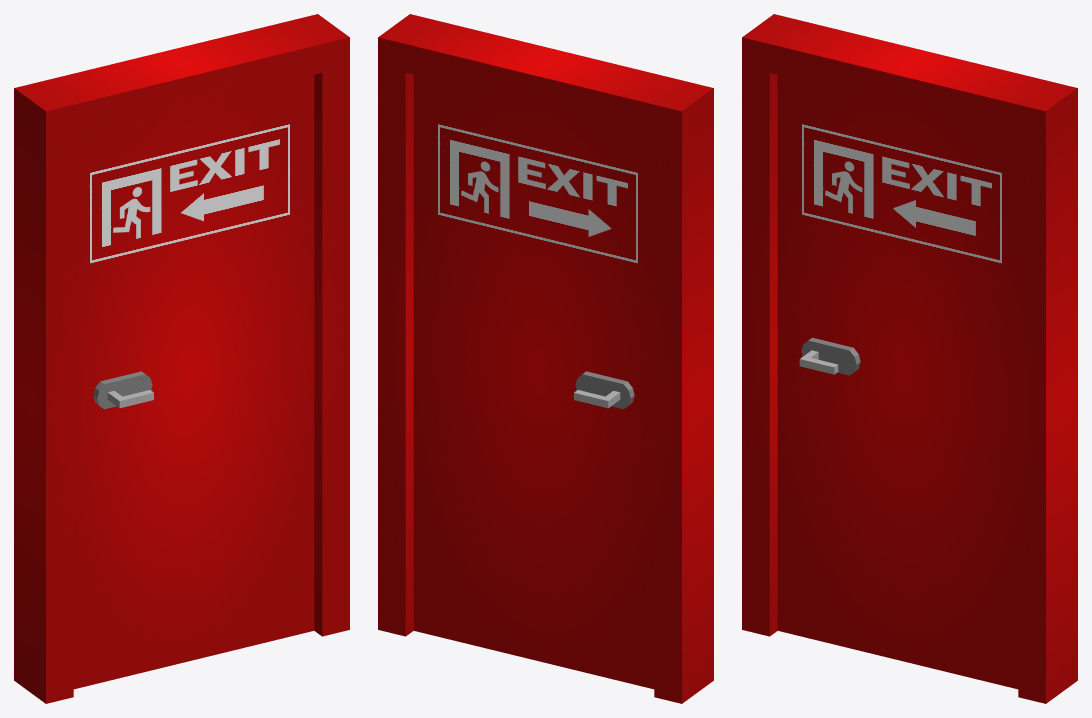
File: door_exit.glb
3 renders of one model, left to right at view 1: azimuth 30°, elevation 25°; view 2: azimuth 150°, elevation 25°; view 3: azimuth 330°, elevation 25°, orthographic.
Parts seen in each view (by area): view 1: Door, Frame, DoorHandle, Handle; view 2: Door, Frame, DoorHandle, Handle; view 3: Door, Frame, DoorHandle, Handle.
Boxes of the visible parts, <box> form: Door: <box>73,75,314,689</box>; Frame: <box>14,14,349,703</box>; DoorHandle: <box>93,371,152,409</box>; Handle: <box>107,390,153,408</box>; Door: <box>413,75,654,689</box>; Frame: <box>378,14,713,703</box>; DoorHandle: <box>575,371,634,409</box>; Handle: <box>574,390,620,408</box>; Door: <box>777,75,1018,689</box>; Frame: <box>742,14,1077,703</box>; DoorHandle: <box>801,337,860,375</box>; Handle: <box>799,350,838,374</box>.
Size of the model in its own units: 2.2 by 4.1 by 0.6.
Materials: 3 (1 with a texture image).
